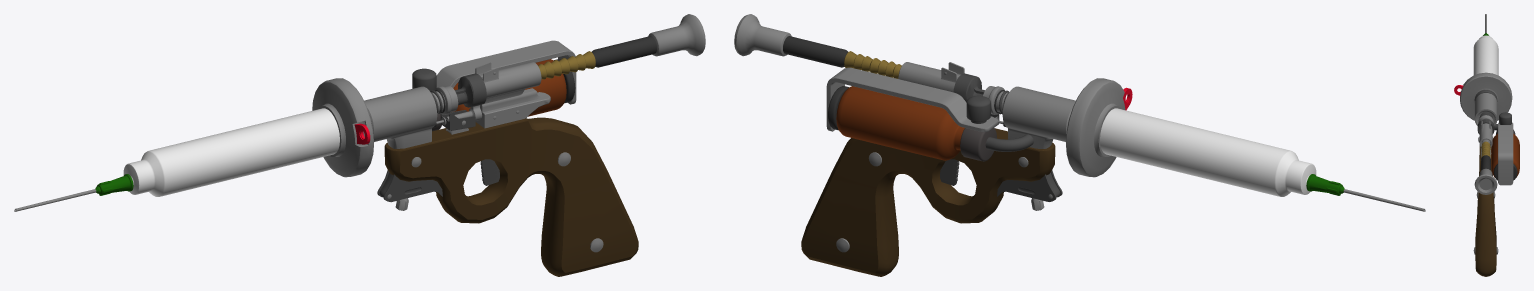
Rendered from SryingeGun_Low.fbx.
3 renders of one model, left to right at view 1: azimuth 30°, elevation 25°; view 2: azimuth 150°, elevation 25°; view 3: azimuth 270°, elevation 25°, orthographic. The views are drawn at different scales.
Parts seen in each view (by area): view 1: Handle_Low; view 2: Handle_Low; view 3: Handle_Low.
Boxes of the visible parts, <box> form: Handle_Low: <box>14,14,705,276</box>; Handle_Low: <box>734,14,1425,276</box>; Handle_Low: <box>1454,14,1519,276</box>.
Size of the model in its own units: 436 by 150 by 68.61.
